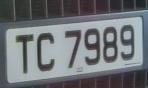7: (62, 24, 84, 75)
8: (102, 21, 120, 70)
9: (82, 24, 103, 72), (118, 20, 139, 65)
C: (35, 27, 59, 78)
T: (12, 29, 38, 81)
